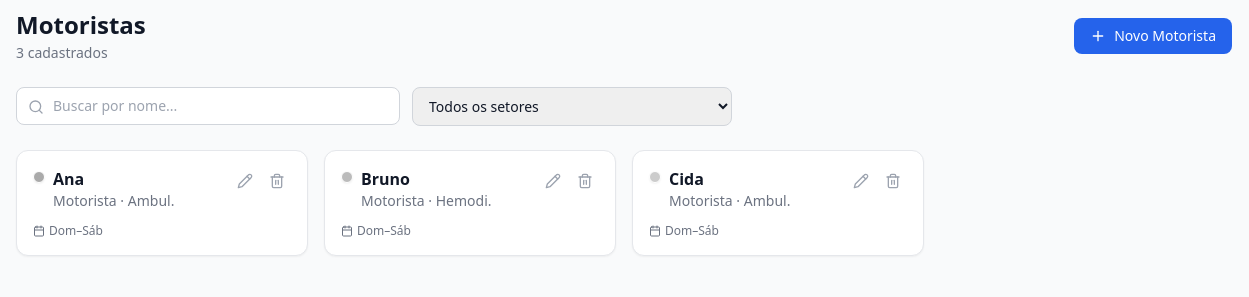
Test: EmployeesPage — busca por nome › busca sem resultado exibe mensagem descritiva com menção a filtros
The image size is (1249, 297).
Type "XYZXYZ" into the field with placeholder "Buscar por nome...".
click(208, 106); type("XYZXYZ")  # box [16,87,400,125]
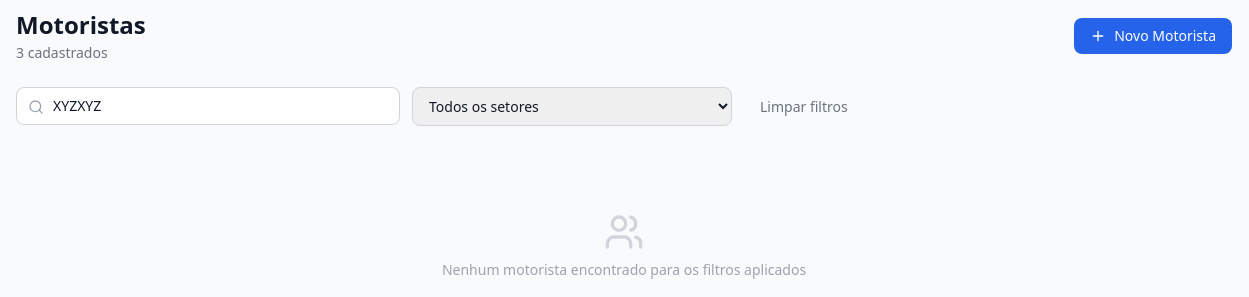
Now the text "Nenhum motorista encontrado para os filtros aplicados" is shown, box [442,260,806,280]
